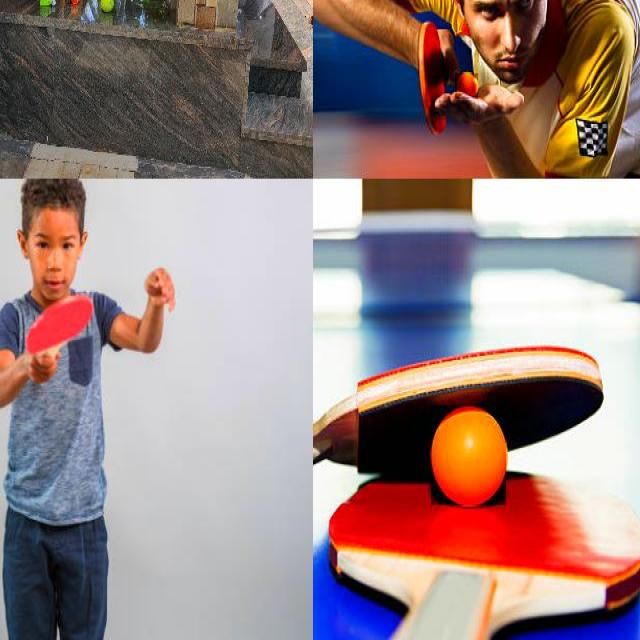ping-pong-ball: (430, 405, 508, 507), (456, 72, 478, 100), (70, 0, 78, 5)
